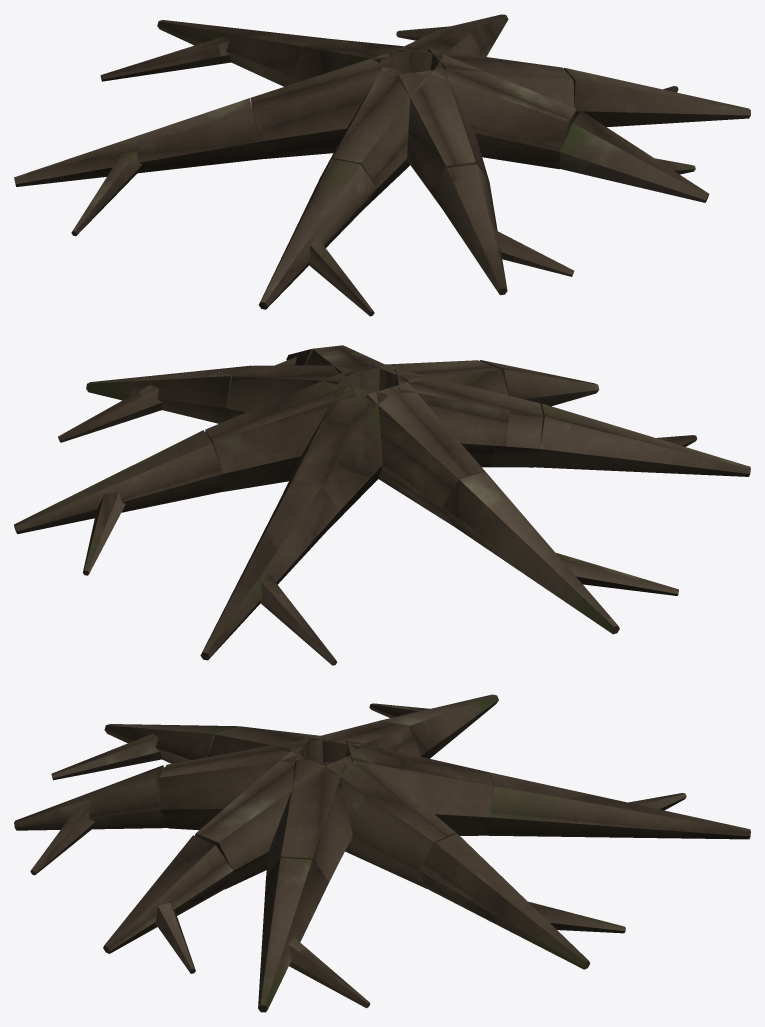
Rendered from RootCluster.fbx.
3 views of the same model, one above another, from view 1: azimuth 30°, elevation 25°; view 2: azimuth 150°, elevation 25°; view 3: azimuth 270°, elevation 25° (orthographic). The views are drawn at different scales.
Visible parts, largest first — view 1: RootCluster; view 2: RootCluster; view 3: RootCluster.
Boxes of the visible parts, box(x1,y1,x2,y2) form: RootCluster: box(14, 14, 750, 316); RootCluster: box(14, 345, 750, 665); RootCluster: box(14, 694, 750, 1012).
Bounding box in the file's own units: 1.72 × 0.2998 × 1.72.
